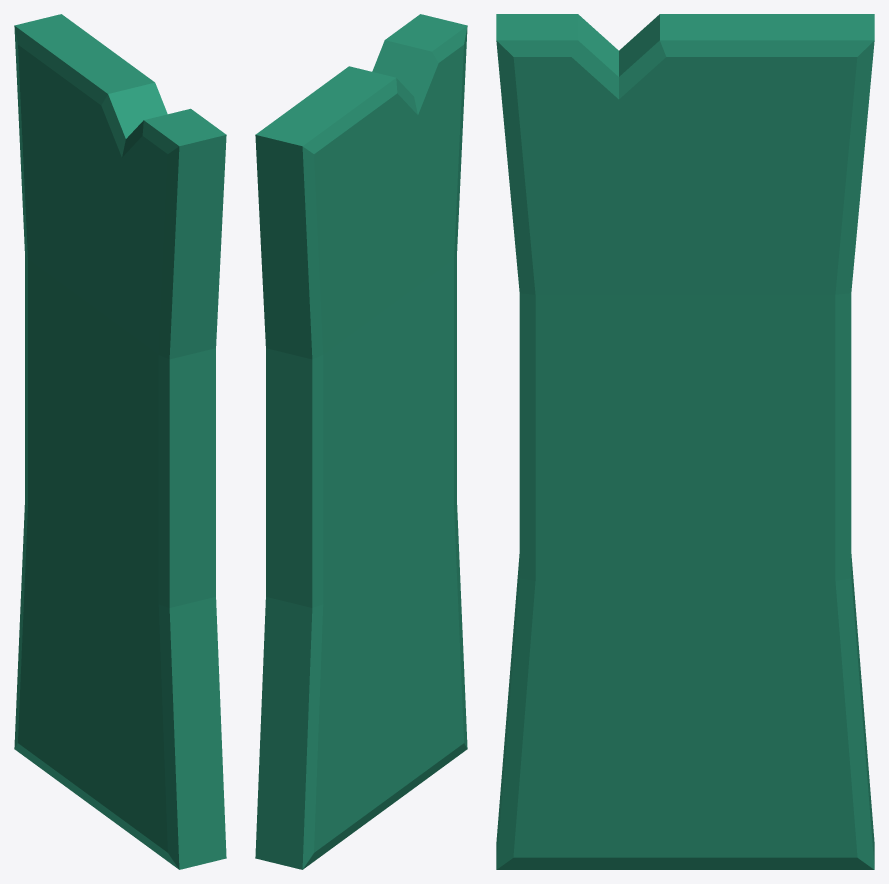
File: SM_E_Wood_01.fbx
The picture shows the model from 3 angles, left to right: view 1: azimuth 30°, elevation 25°; view 2: azimuth 150°, elevation 25°; view 3: azimuth 270°, elevation 25°; orthographic projection. The views are drawn at different scales.
Parts seen in each view (by area): view 1: SM_E_Wood_01; view 2: SM_E_Wood_01; view 3: SM_E_Wood_01.
Boxes of the visible parts, x1,y1,x2,y2 form: SM_E_Wood_01: (14,14,226,869); SM_E_Wood_01: (255,14,467,869); SM_E_Wood_01: (496,14,874,869).
Bounding box in the file's own units: 38.59 × 484 × 200.
